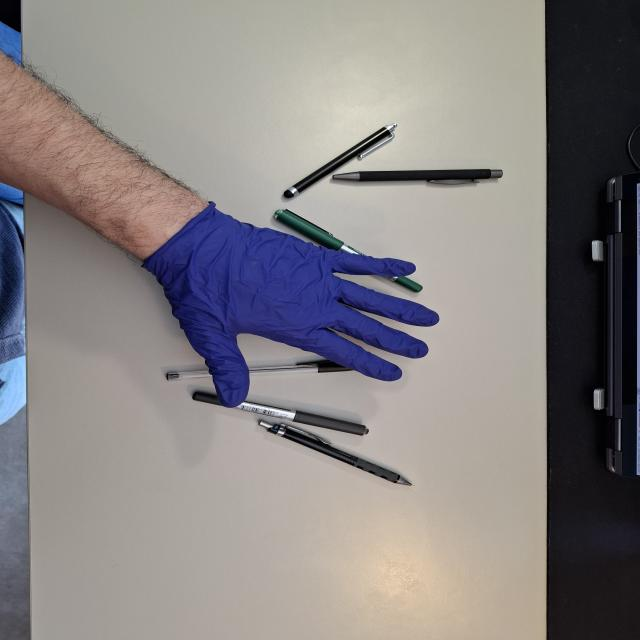glove_on: (139, 201, 443, 410)
